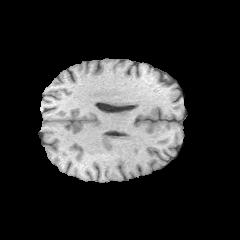glioma: (102, 97, 160, 151)
